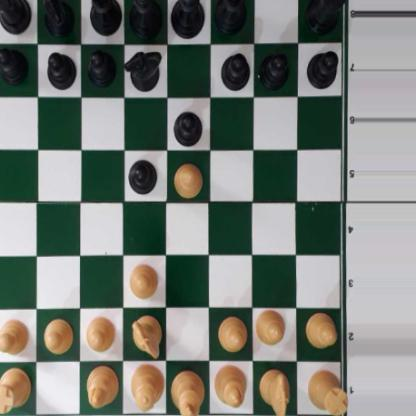black-bishop: (213, 0, 247, 36), (89, 0, 122, 35)
black-king: (169, 0, 205, 39)
black-knight: (124, 51, 162, 87), (42, 0, 74, 37)
black-pawn: (86, 48, 118, 89), (306, 49, 338, 89), (173, 107, 203, 146), (260, 49, 289, 88), (46, 49, 74, 89), (0, 47, 28, 86), (221, 53, 249, 90), (128, 158, 157, 193)
black-queen: (129, 0, 163, 37)
black-rook: (304, 0, 343, 34), (0, 0, 32, 33)
white-bishop: (214, 364, 246, 410), (85, 364, 117, 408)
white-king: (171, 367, 202, 416)
white-knight: (260, 367, 290, 416), (132, 313, 163, 359)
white-pawn: (305, 312, 338, 348), (128, 261, 159, 299), (84, 314, 115, 352), (0, 317, 31, 354), (43, 317, 73, 353), (216, 315, 246, 351), (256, 309, 285, 346), (173, 161, 203, 196)
white-queen: (127, 363, 166, 411)
white-rook: (306, 368, 347, 415), (0, 366, 31, 413)
